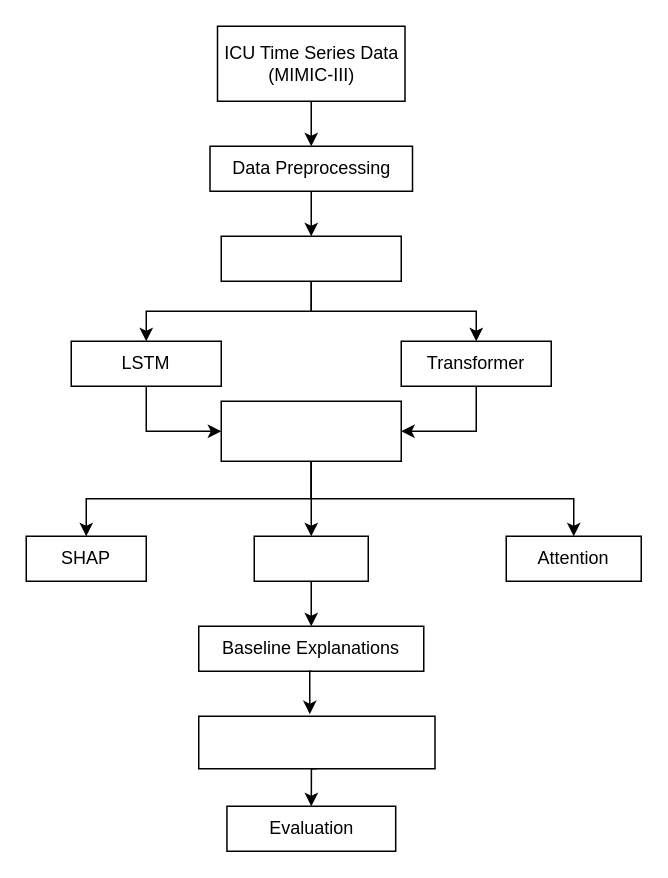
The diagram is 668 pixels wide and 878 high, and some of its shapes have lost their labels. Each missing label, with the box of its shape:
Generate Explanations: (220, 400, 401, 461)
LIME: (253, 535, 368, 581)
Temporal Aggregation (Proposed): (197, 715, 435, 769)
Train Models: (220, 235, 401, 281)
